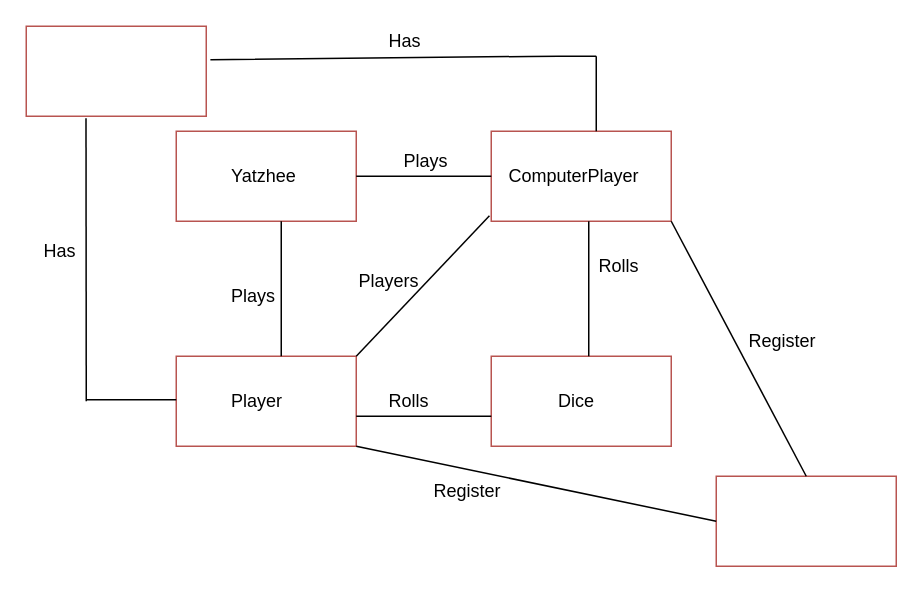
Image size: 923x593. Some labels were removed from this diagram. The centre of each missing label's shape, as x and y in pixels:
"Rules" goes at point (115, 70).
"ScoreSheet" goes at point (805, 520).
